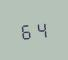four: (34, 20, 48, 38)
six: (19, 21, 33, 40)
